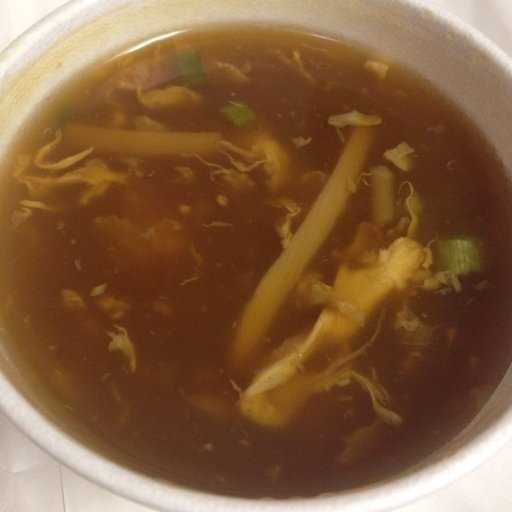soup: (1, 22, 505, 485)
